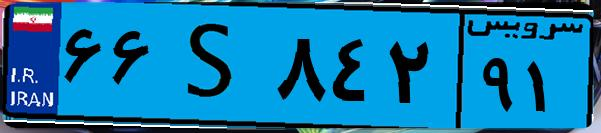1: (525, 38, 570, 115)
2: (385, 28, 445, 110)
4: (330, 28, 385, 110)
6: (57, 26, 110, 100), (110, 28, 158, 98)
8: (270, 28, 330, 110)
9: (475, 38, 525, 113)
S: (158, 12, 270, 120)
